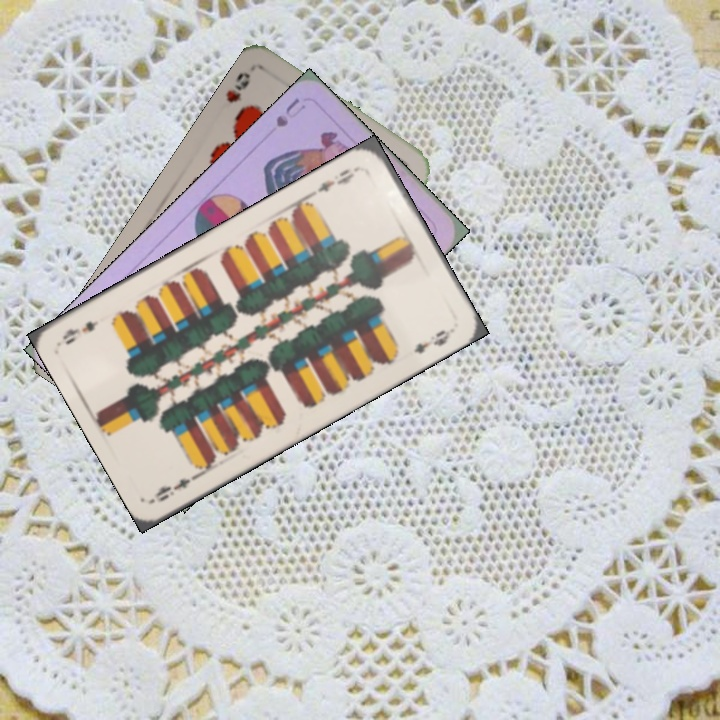E9: (150, 461, 205, 505), (313, 162, 363, 195)
H9: (221, 67, 253, 106)
SU: (272, 93, 309, 130)
